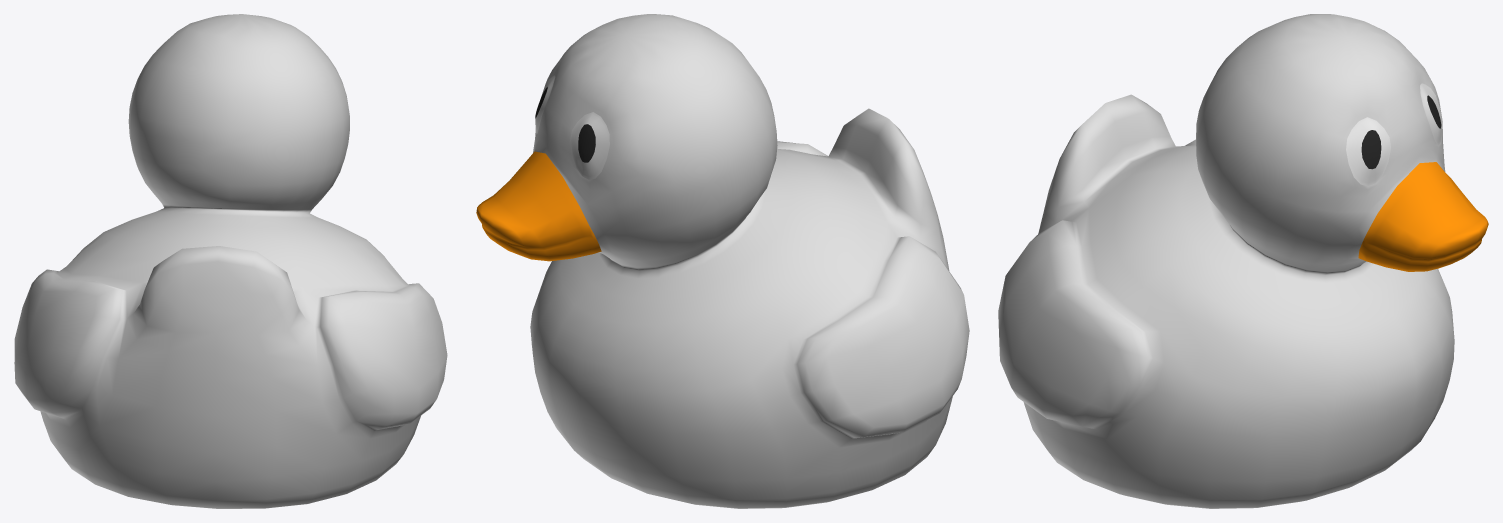
Rendered from Toy N060512.dae.
3 renders of one model, left to right at view 1: azimuth 30°, elevation 25°; view 2: azimuth 150°, elevation 25°; view 3: azimuth 270°, elevation 25°, orthographic. The views are drawn at different scales.
Parts seen in each view (by area): view 1: Arch_056_0; view 2: Arch_056_0, Arch_056_1, Arch_056_3, Arch_056_2; view 3: Arch_056_0, Arch_056_1, Arch_056_3, Arch_056_2.
Part boxes in pixels (box(x1,y1,x2,y2)): Arch_056_0: box(14, 14, 447, 508); Arch_056_0: box(530, 14, 969, 508); Arch_056_1: box(476, 151, 601, 261); Arch_056_3: box(535, 75, 609, 179); Arch_056_2: box(535, 87, 595, 162); Arch_056_0: box(998, 14, 1454, 508); Arch_056_1: box(1358, 162, 1488, 271); Arch_056_3: box(1346, 83, 1442, 185); Arch_056_2: box(1361, 95, 1441, 169).
Bounding box in the file's own units: 3.41 × 3.46 × 3.55.
